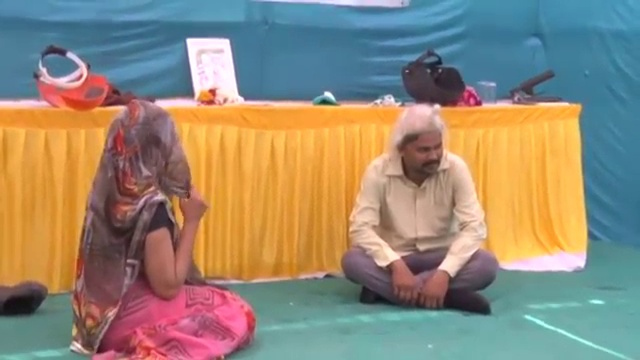helmet_off: (100, 105, 194, 195), (396, 108, 446, 176)
person: (71, 99, 256, 360), (340, 104, 501, 315)
